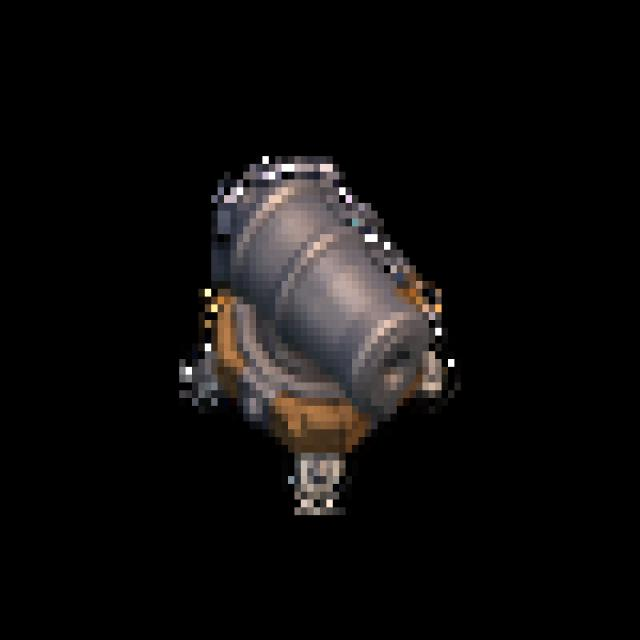cannon: (150, 146, 483, 532)
